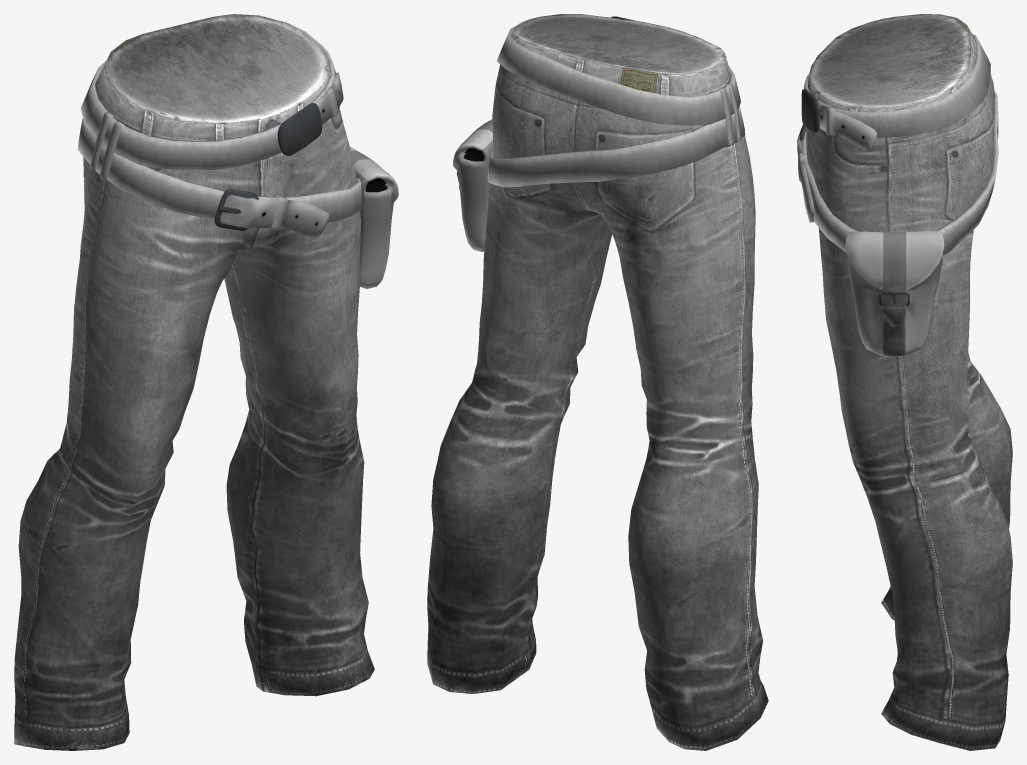
Rendered from SurvivorMale_Legs_Pants_StraightLegThighPouch_LOD0.glb.
3 views of the same model, side by side, from view 1: azimuth 30°, elevation 25°; view 2: azimuth 150°, elevation 25°; view 3: azimuth 270°, elevation 25° (orthographic). The views are drawn at different scales.
Visible parts, largest first — view 1: Hoodie; view 2: Hoodie; view 3: Hoodie.
Part boxes in pixels (x1,y1,x2,y2): Hoodie: (14, 14, 398, 750); Hoodie: (427, 14, 768, 750); Hoodie: (797, 14, 1012, 750).
Size of the model in its own units: 0.5314 by 1.02 by 0.3129.
1 material, 1 textured.
